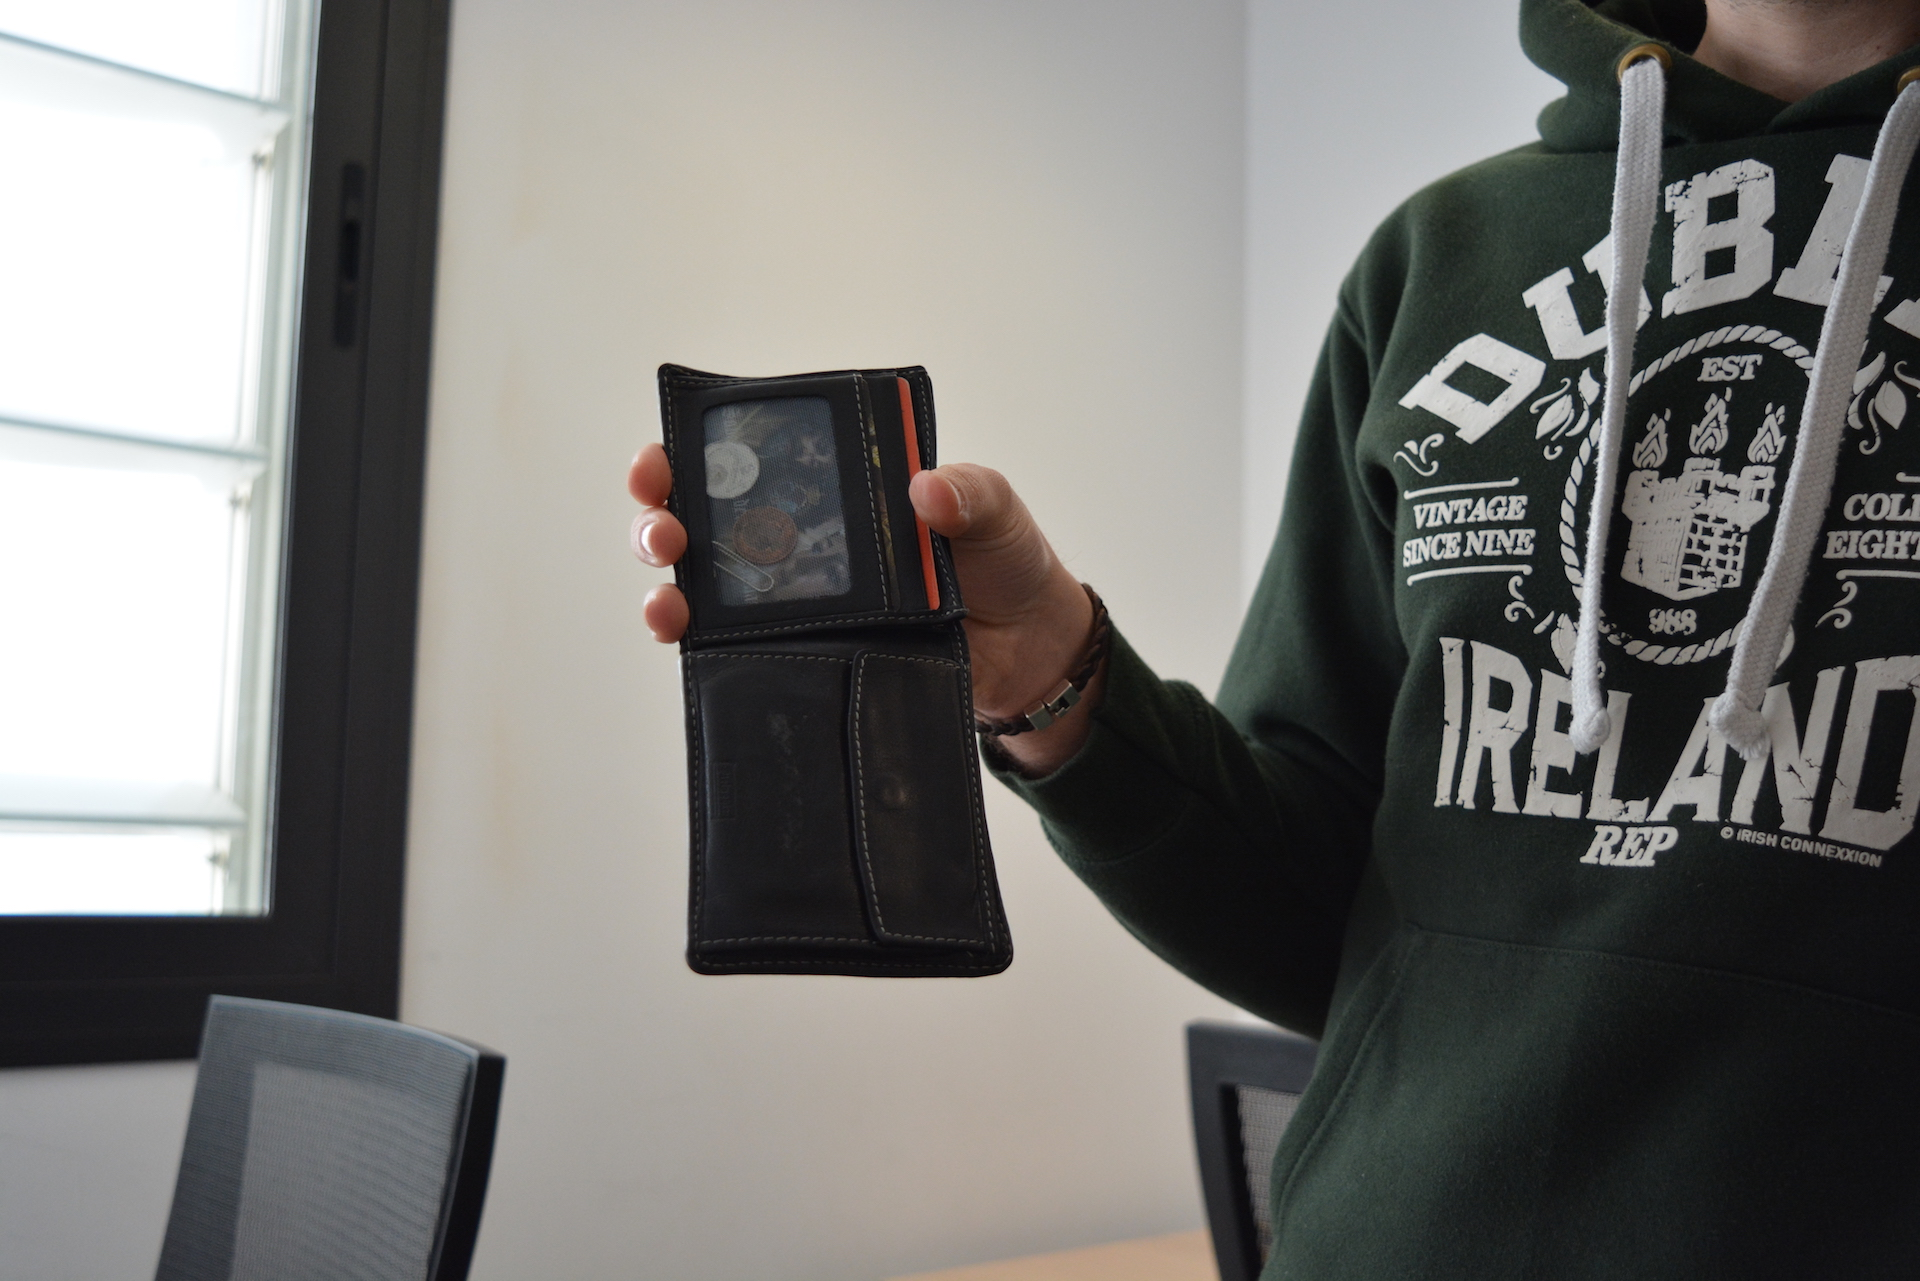monedero: (655, 359, 1016, 984)
